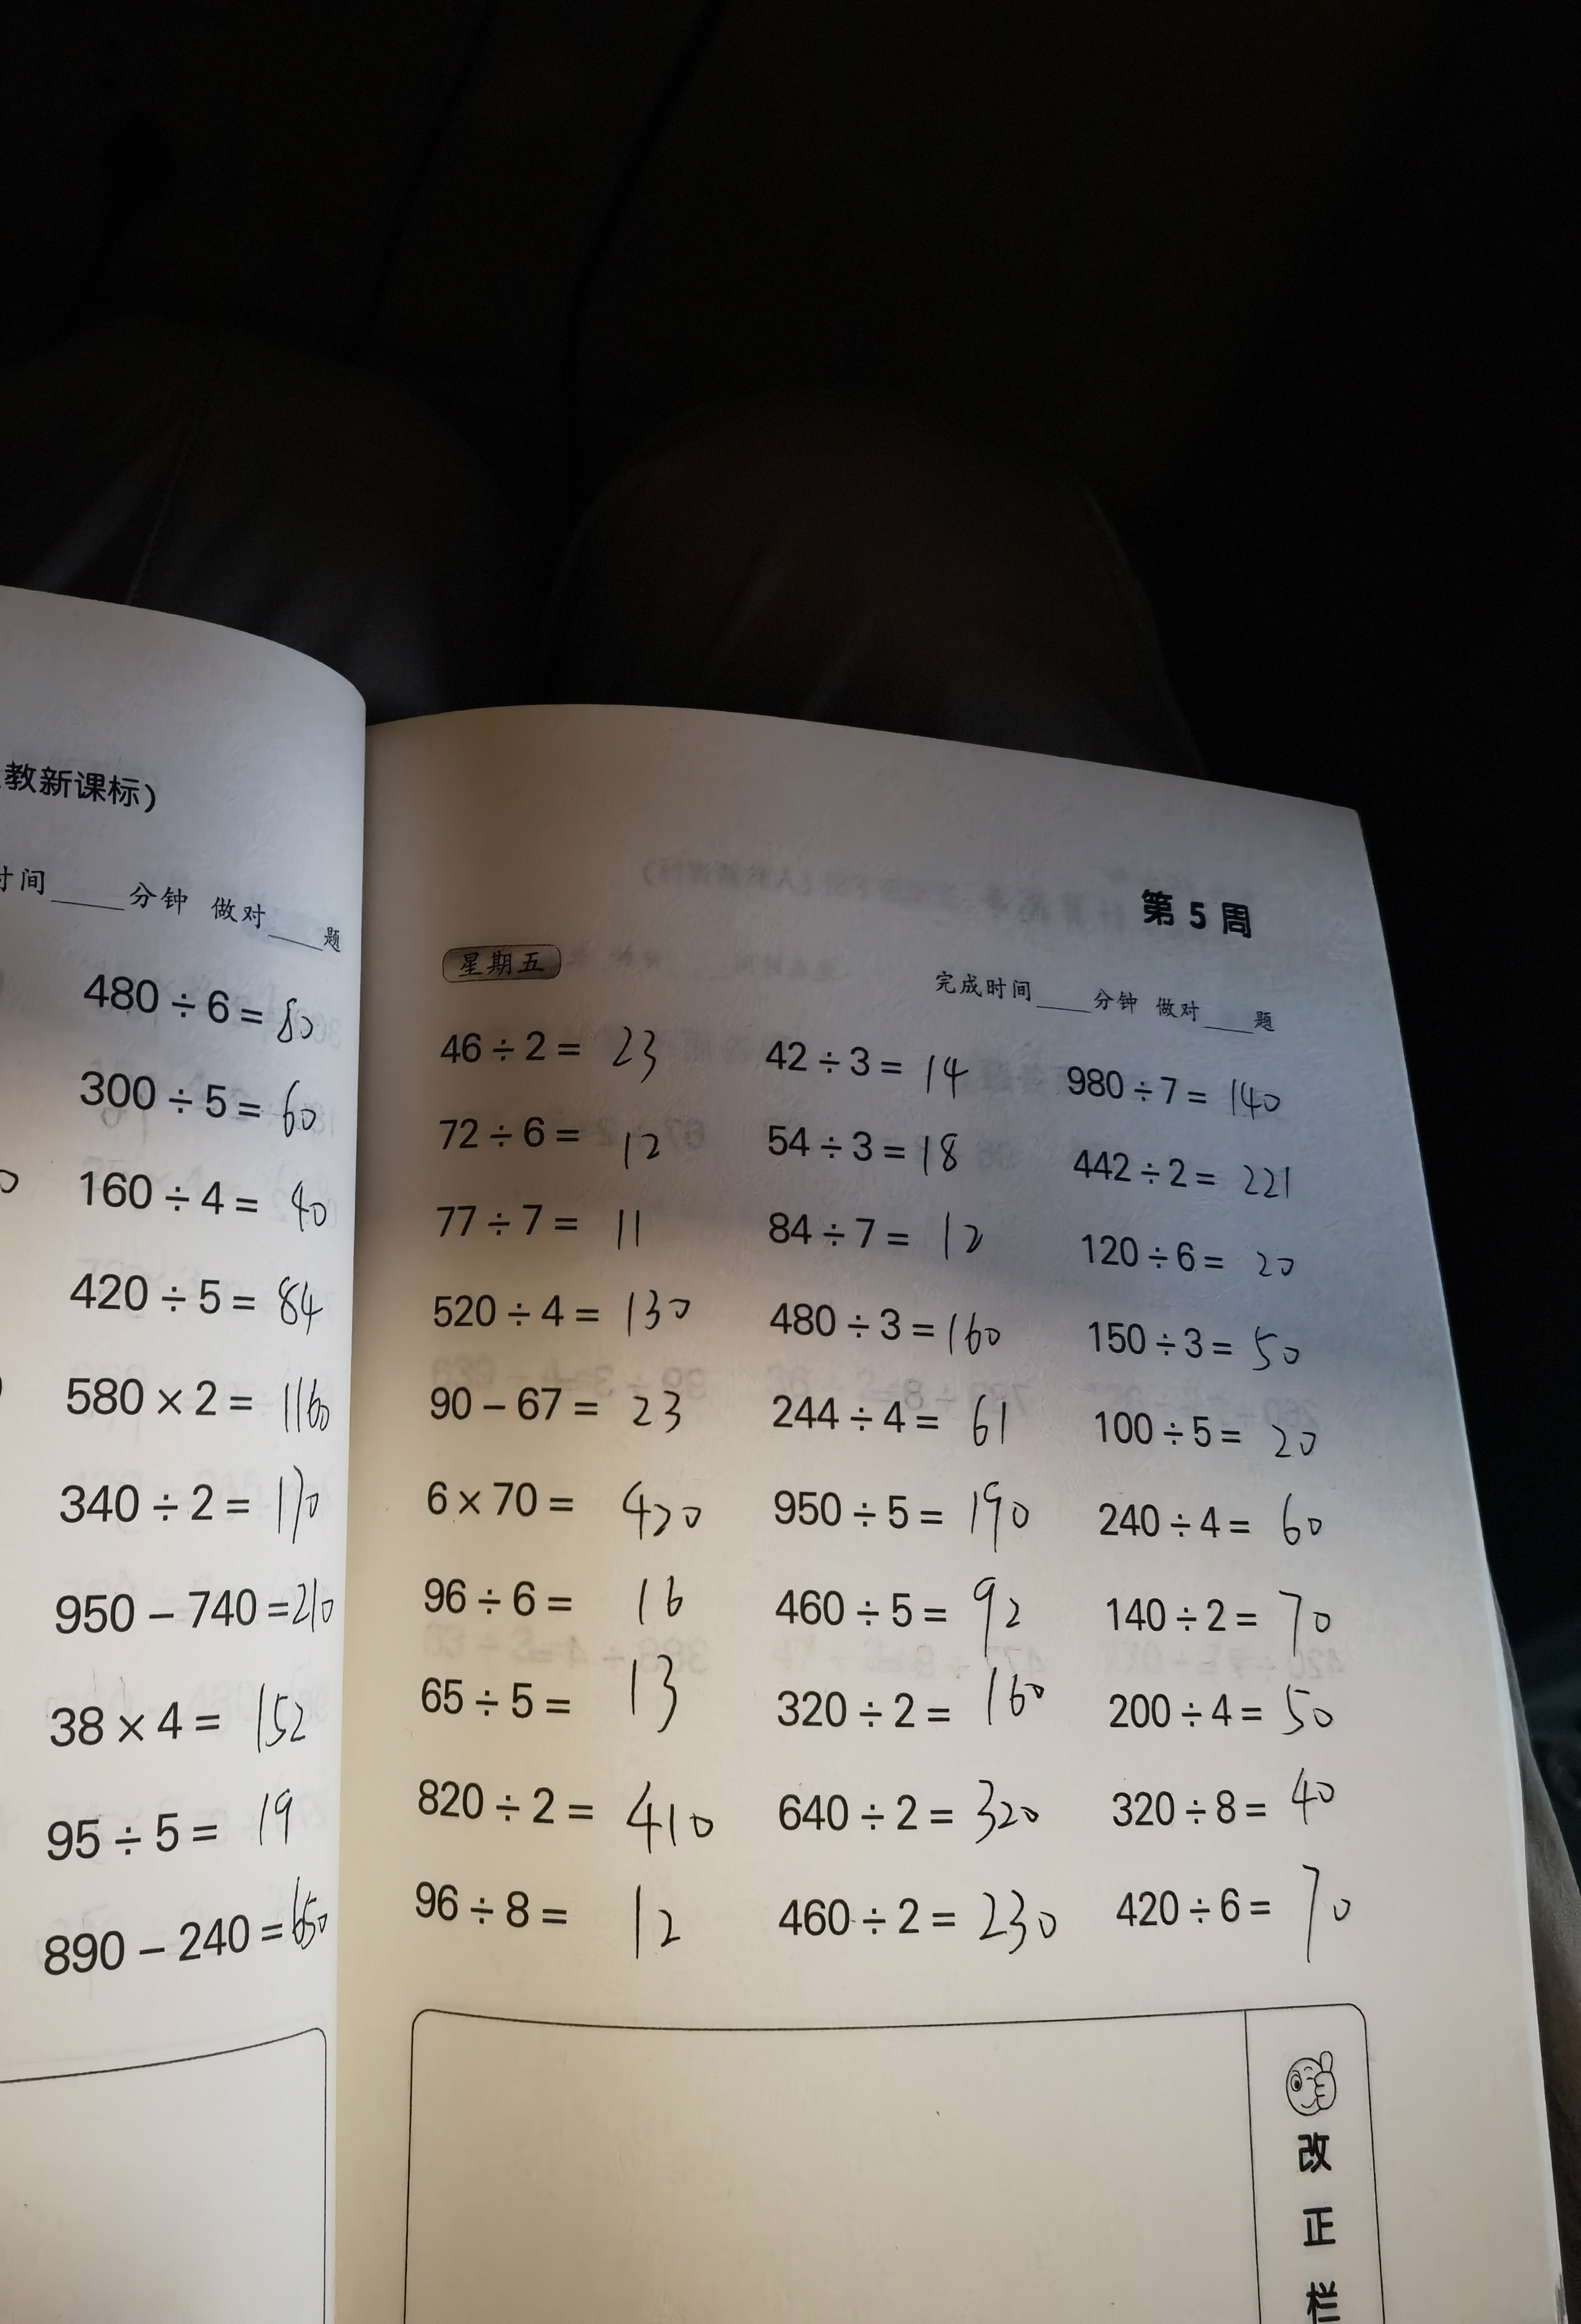equation: (1099, 1853, 1457, 1985), (395, 1756, 738, 1858), (790, 1867, 1087, 1973), (369, 1865, 695, 1960), (762, 1661, 1053, 1765), (404, 1468, 748, 1551), (759, 1567, 1062, 1659), (1053, 1219, 1353, 1311), (762, 1765, 1055, 1856), (415, 1359, 711, 1447), (757, 1463, 1052, 1548), (1089, 1761, 1373, 1848), (1115, 1574, 1357, 1673), (1060, 1043, 1334, 1129), (1087, 1666, 1350, 1754), (1076, 1299, 1345, 1385), (761, 1283, 1022, 1366), (399, 1661, 688, 1735), (404, 1562, 732, 1625), (427, 999, 662, 1087), (1071, 1394, 1336, 1470), (761, 1376, 1039, 1447), (406, 1278, 701, 1343), (1082, 1481, 1339, 1553), (745, 1018, 969, 1098), (425, 1112, 695, 1177), (431, 1198, 683, 1262), (1068, 1149, 1315, 1209), (761, 1196, 986, 1262), (752, 1112, 985, 1172)
